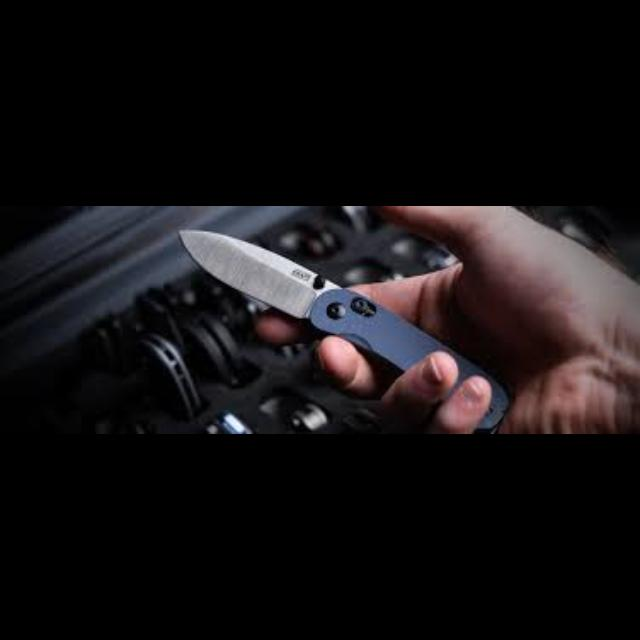knife: (286, 206, 640, 434), (178, 227, 510, 431)
